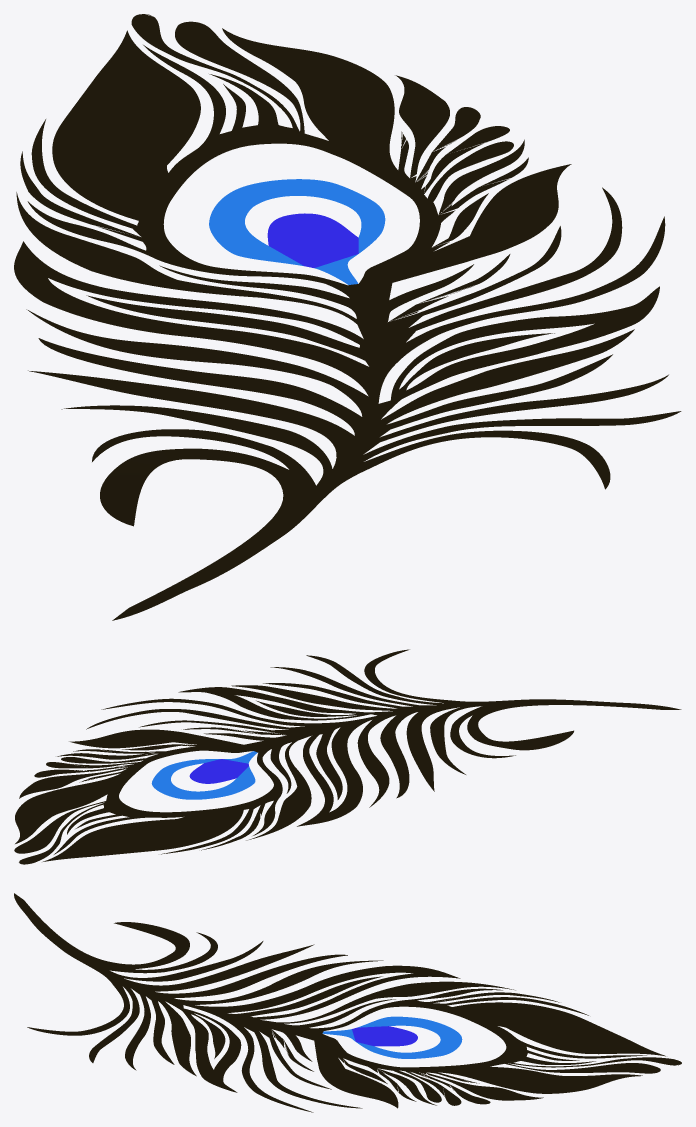
File: feather.FBX
The picture shows the model from 3 angles, top to bottom: view 1: azimuth 30°, elevation 25°; view 2: azimuth 150°, elevation 25°; view 3: azimuth 270°, elevation 25°; orthographic projection. The views are drawn at different scales.
Visible parts, largest first — view 1: grün/braun, türkis, blau; view 2: grün/braun, türkis, blau; view 3: grün/braun, türkis, blau.
Boxes of the visible parts, x1=… form: grün/braun: x1=14, y1=14, x2=681, y2=620; türkis: x1=209, y1=179, x2=385, y2=284; blau: x1=267, y1=213, x2=358, y2=267; grün/braun: x1=14, y1=649, x2=681, y2=864; türkis: x1=151, y1=751, x2=257, y2=799; blau: x1=189, y1=759, x2=248, y2=783; grün/braun: x1=14, y1=893, x2=681, y2=1112; türkis: x1=322, y1=1016, x2=462, y2=1058; blau: x1=352, y1=1026, x2=417, y2=1046.
Size of the model in its own units: 93.96 by 0.4958 by 121.
